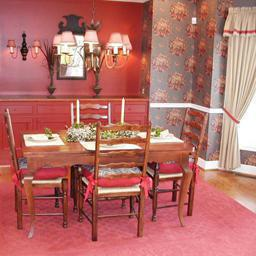Ventana: (219, 37, 255, 150)
